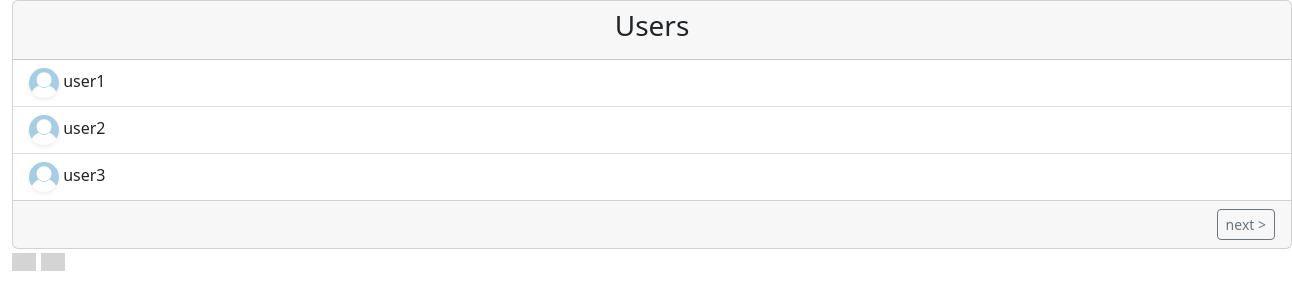
Test: User List › hides next page link at last page
Check: the list item "user1" is shown, box [13,60,1291,107]
Click the button "next >".
click(1246, 224)  # box [1217,209,1275,240]
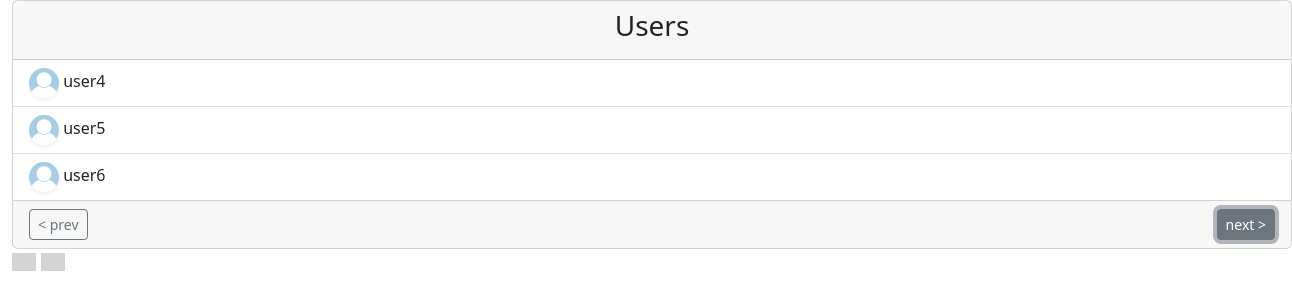
Check: the list item "user4" is shown, box [13,60,1291,107]
Click the button "next >".
click(1246, 224)  # box [1217,209,1275,240]
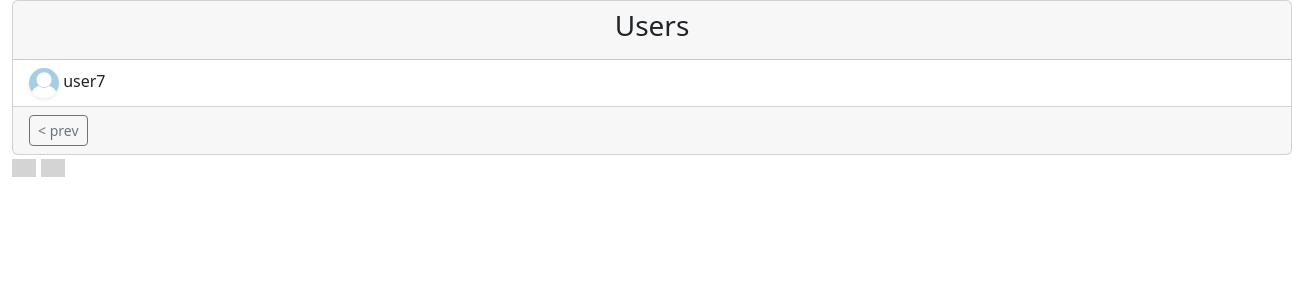
Check: the list item "user7" is shown, box [13,60,1291,106]
